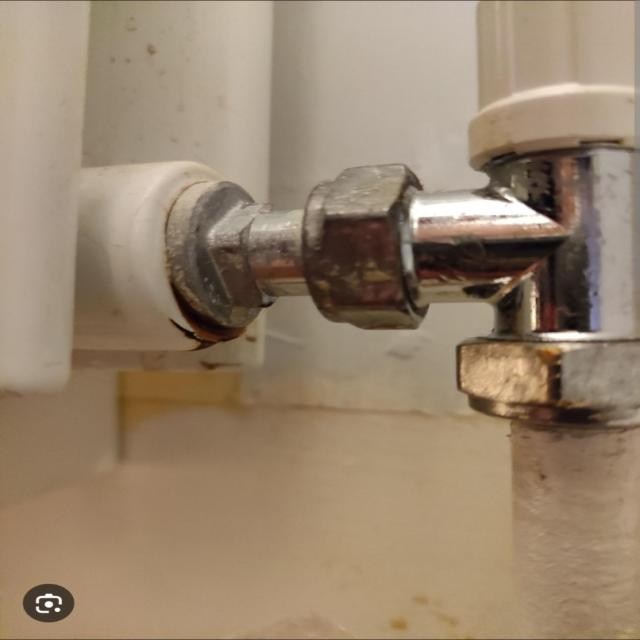leaking_radiator: (348, 43, 640, 476), (103, 234, 298, 399)
